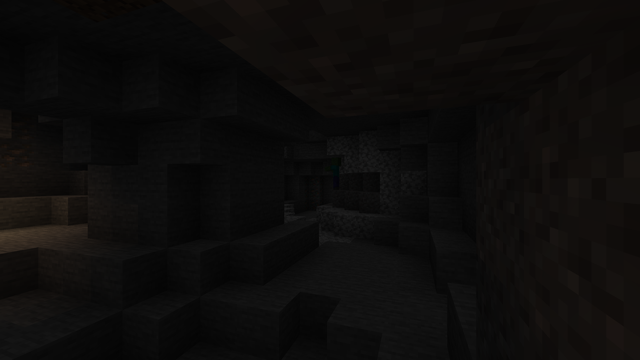zombies: (331, 158, 342, 189)
